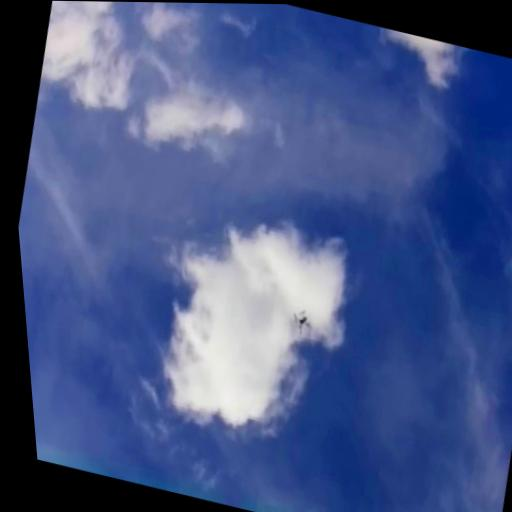drones: (286, 301, 319, 344)
